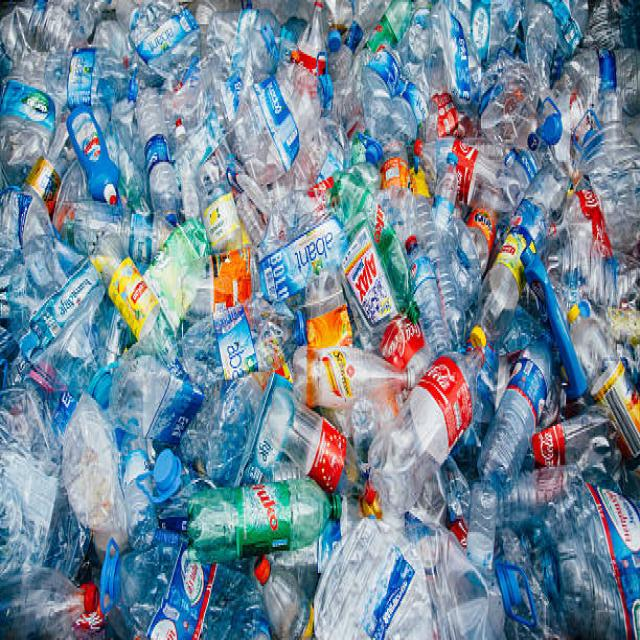Plastico: (362, 340, 491, 514), (190, 470, 345, 562), (475, 325, 556, 497), (480, 332, 559, 487), (414, 135, 528, 230), (134, 81, 180, 244)
